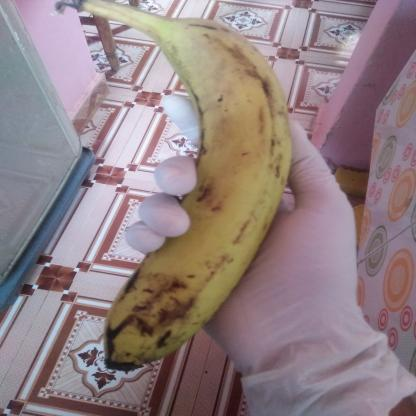gloved_hand: (114, 77, 414, 415)
